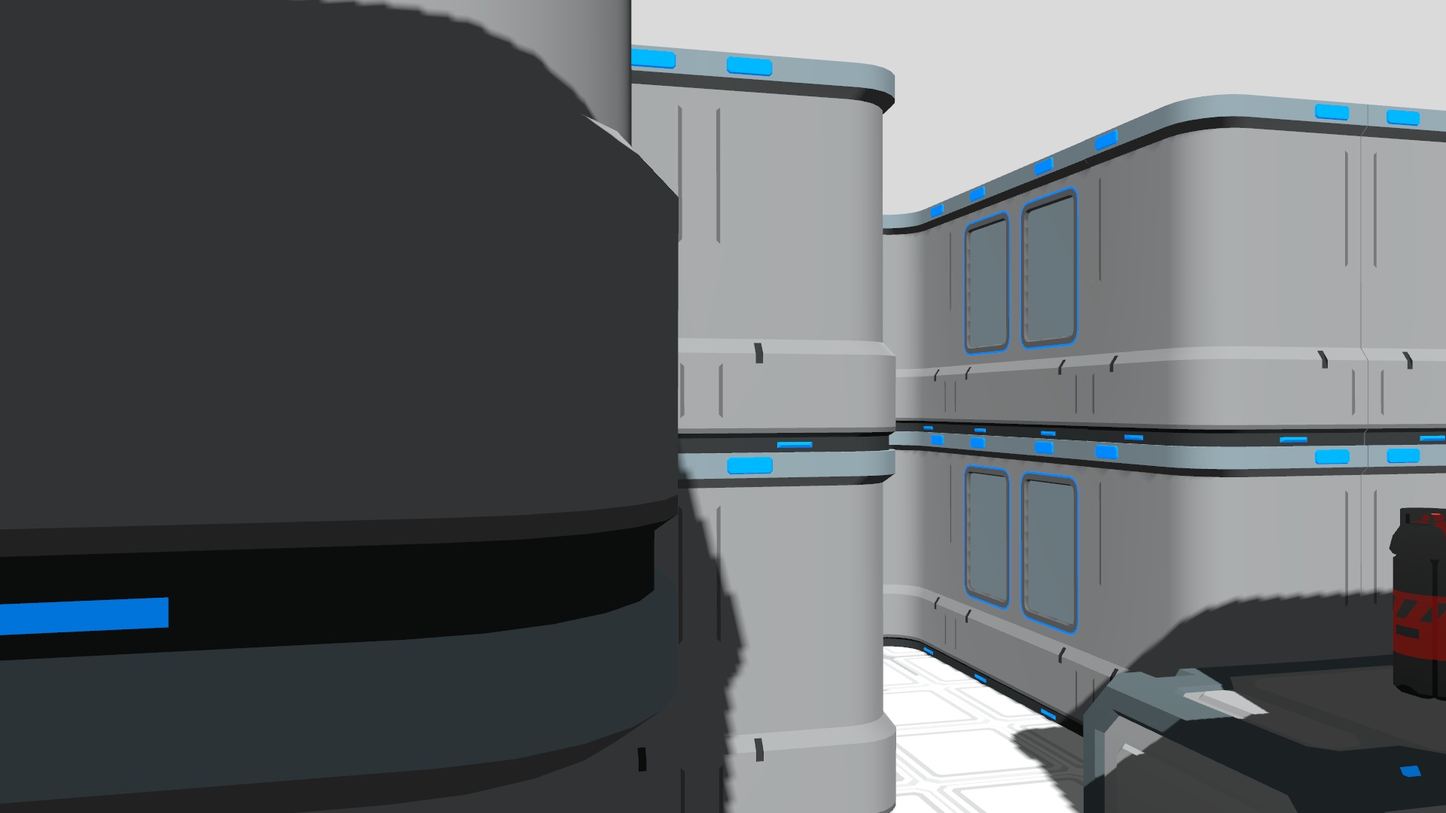red_barrel: (1386, 500, 1446, 705)
